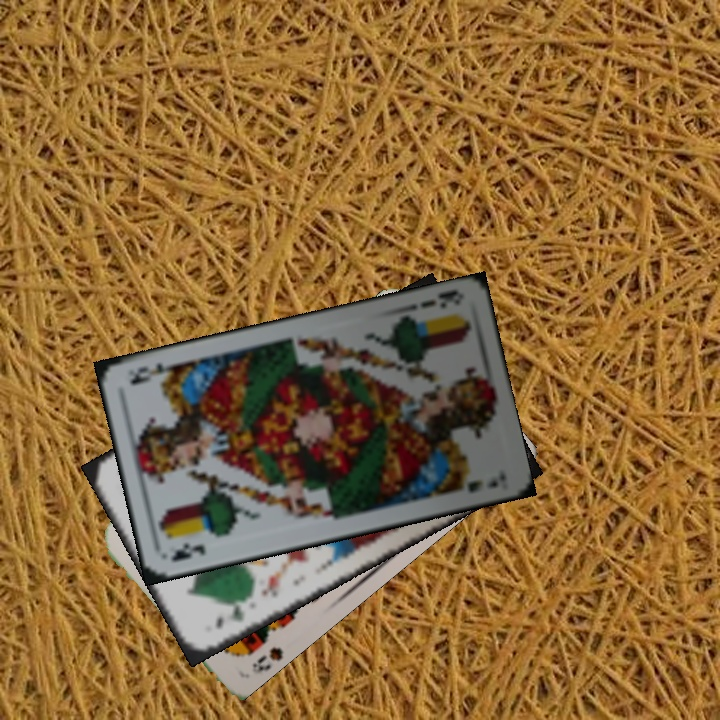EK: (417, 286, 464, 312), (168, 539, 208, 565)
GK: (210, 600, 248, 631)
S8: (247, 642, 286, 677)
